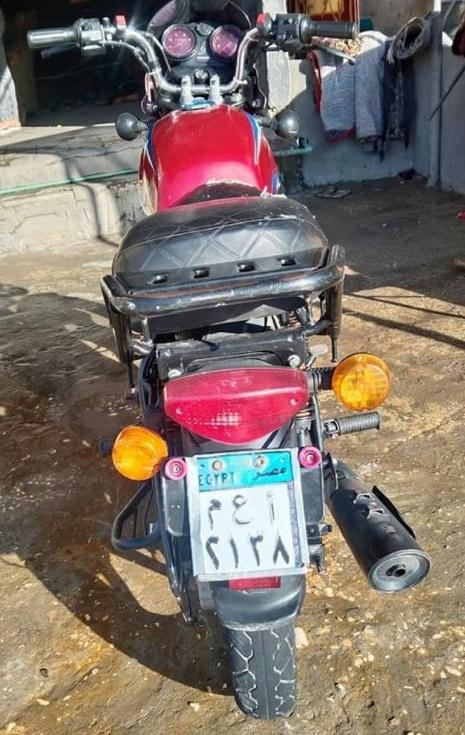License Plate: (186, 451, 308, 575)
